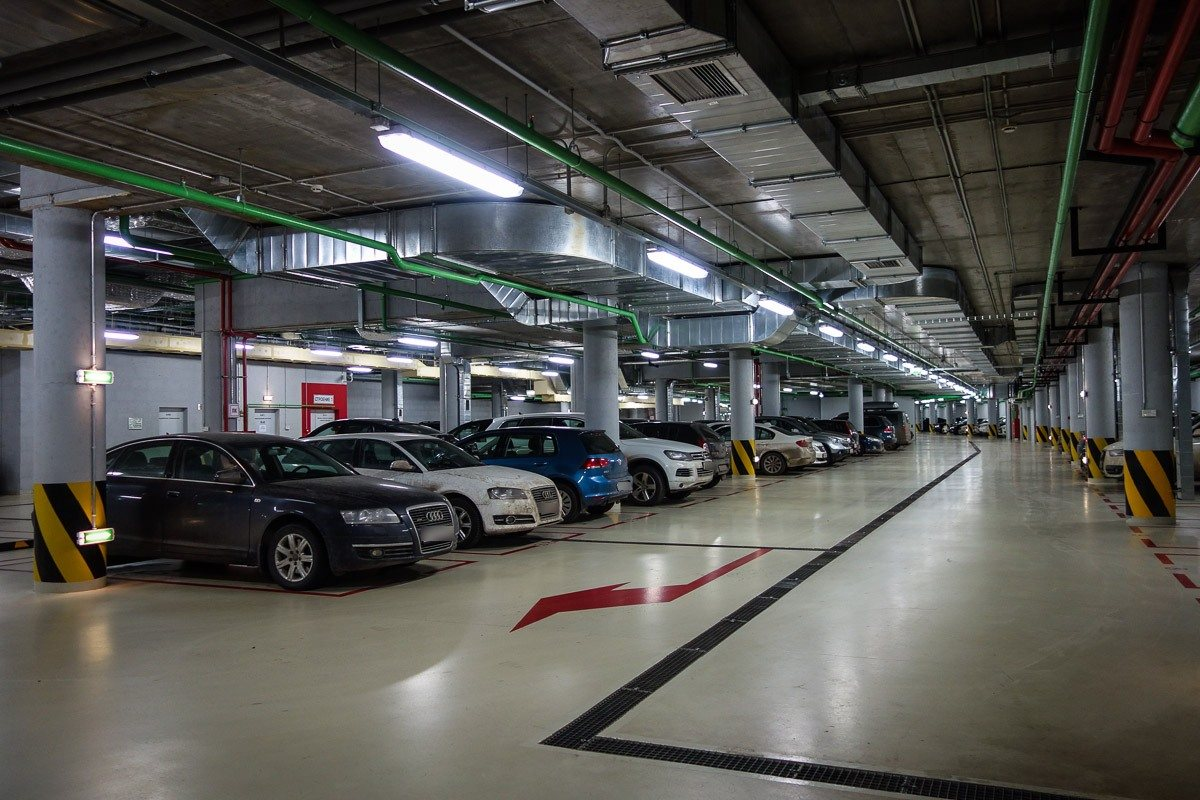Car: (107, 431, 460, 592), (302, 433, 562, 547), (485, 411, 714, 505), (454, 426, 633, 521), (629, 421, 730, 488), (754, 415, 853, 466), (299, 418, 456, 444), (829, 401, 911, 449), (755, 423, 817, 476), (783, 415, 858, 450), (841, 414, 898, 448), (812, 420, 859, 451), (1098, 439, 1124, 482), (445, 419, 493, 439), (851, 434, 885, 457), (931, 416, 970, 433), (947, 418, 988, 434), (978, 417, 1007, 436), (916, 418, 946, 432), (812, 440, 827, 464), (1077, 435, 1086, 473), (958, 422, 986, 434), (964, 422, 991, 434), (619, 418, 661, 424), (941, 421, 961, 433), (691, 419, 728, 425), (705, 422, 731, 430), (998, 425, 1007, 437)
